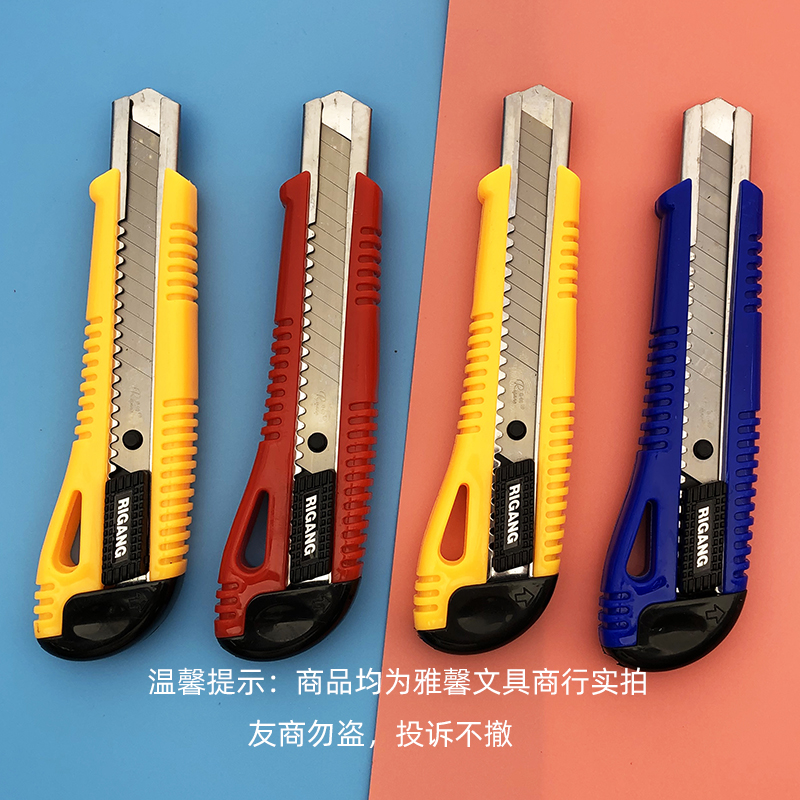cutter: (212, 90, 385, 663), (32, 85, 201, 662), (412, 85, 582, 655), (597, 97, 765, 672)
